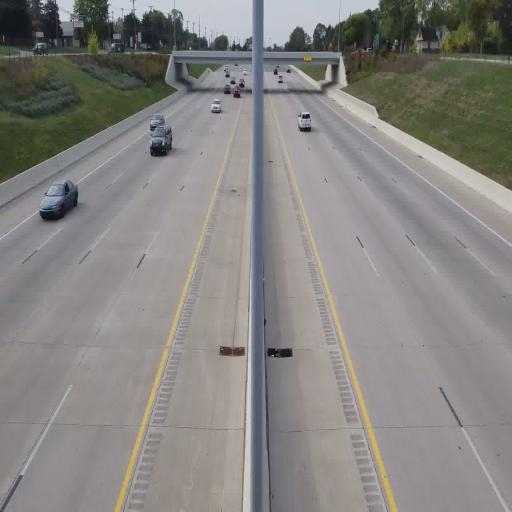Car: (40, 180, 78, 220), (150, 124, 172, 156), (150, 113, 166, 131), (211, 98, 222, 114), (224, 85, 231, 94)
Truck: (298, 110, 312, 132)
